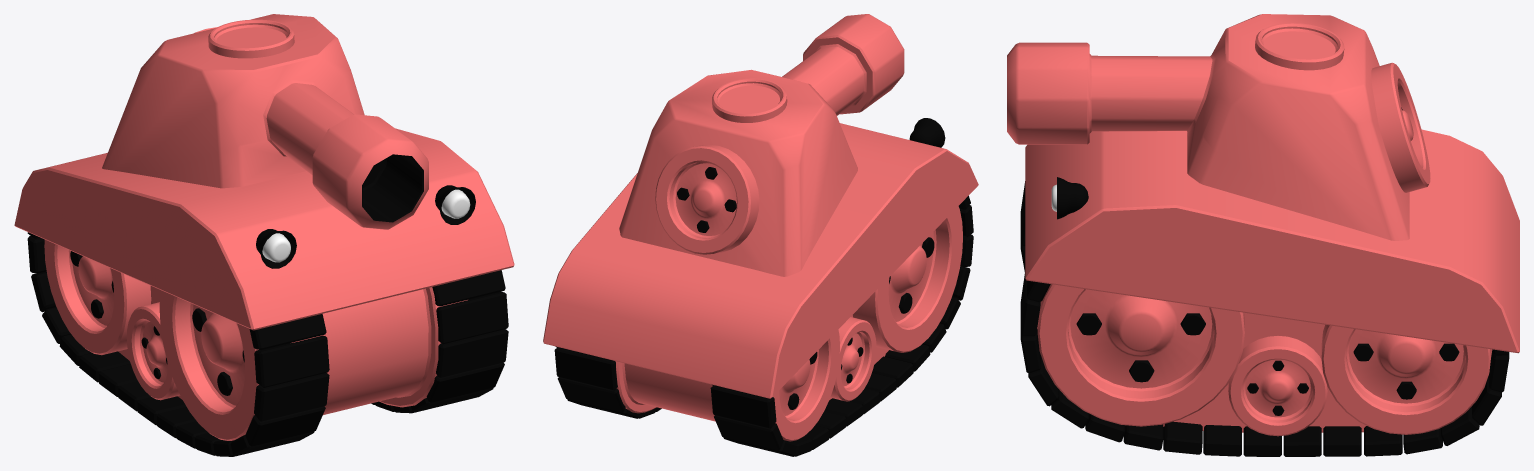
Rendered from English.fbx.
The picture shows the model from 3 angles, left to right: view 1: azimuth 30°, elevation 25°; view 2: azimuth 150°, elevation 25°; view 3: azimuth 270°, elevation 25°; orthographic projection. The views are drawn at different scales.
Visible parts, largest first — view 1: Ingles; view 2: Ingles; view 3: Ingles.
Part boxes in pixels (x1=…): Ingles: x1=14, y1=14, x2=514, y2=456; Ingles: x1=543, y1=14, x2=978, y2=456; Ingles: x1=1007, y1=14, x2=1519, y2=456.
Bounding box in the file's own units: 147 × 185 × 240.
